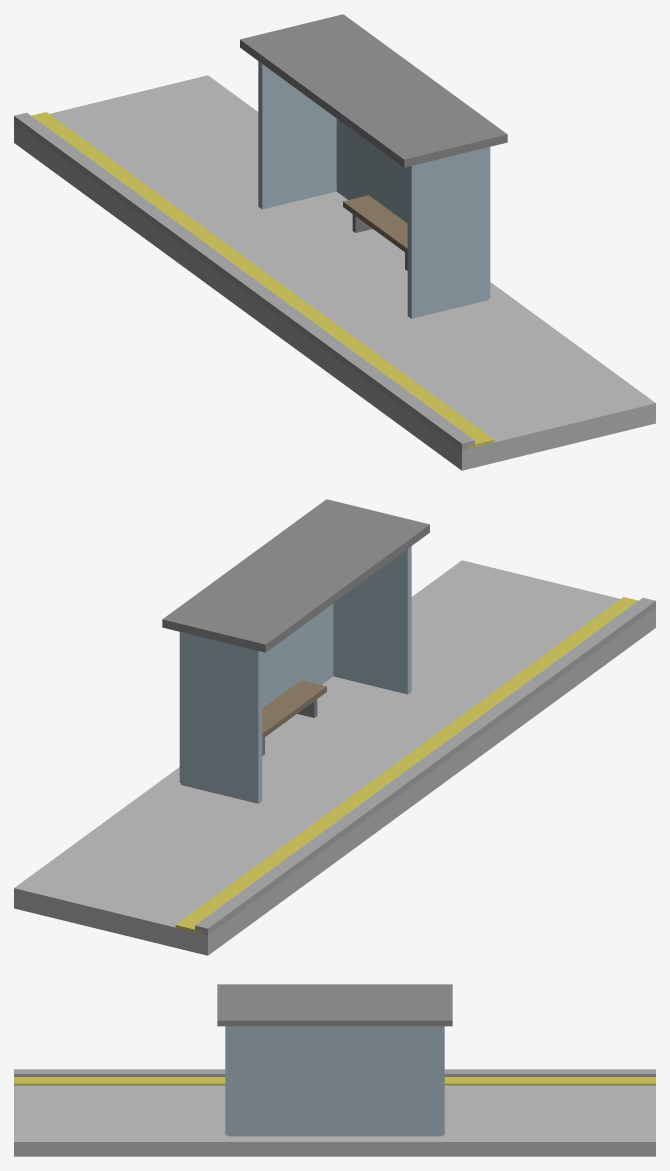
The model's file is station-tram-stop.glb.
3 views of the same model, one above another, from view 1: azimuth 30°, elevation 25°; view 2: azimuth 150°, elevation 25°; view 3: azimuth 270°, elevation 25° (orthographic). The views are drawn at different scales.
Visible parts, largest first — view 1: station-tram-stop; view 2: station-tram-stop; view 3: station-tram-stop.
Boxes of the visible parts, x1,y1,x2,y2 form: station-tram-stop: (14, 14, 655, 470); station-tram-stop: (14, 499, 655, 955); station-tram-stop: (14, 984, 655, 1156).
Size of the model in its own units: 3 by 2.76 by 12.
